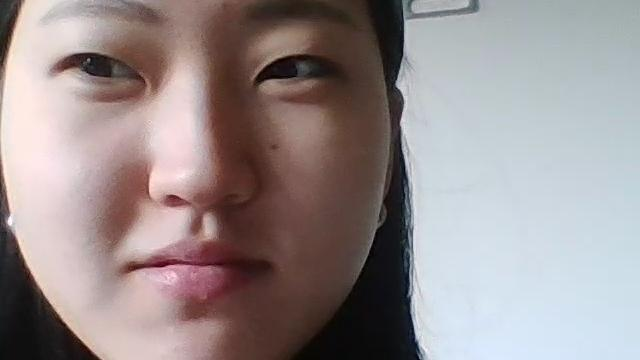eye: (78, 49, 111, 77), (260, 53, 289, 81)
iris: (70, 55, 145, 80), (257, 56, 325, 81)
